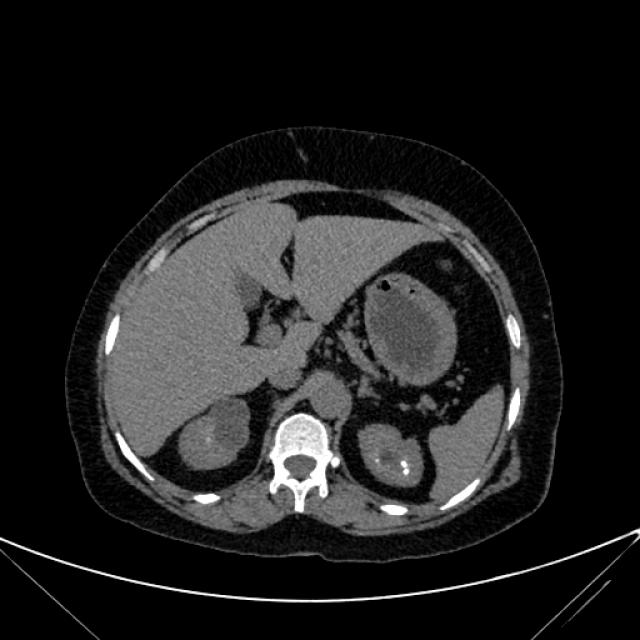kidney: (177, 395, 258, 474), (351, 419, 428, 490)
stone: (401, 466, 410, 476), (401, 460, 408, 469)
